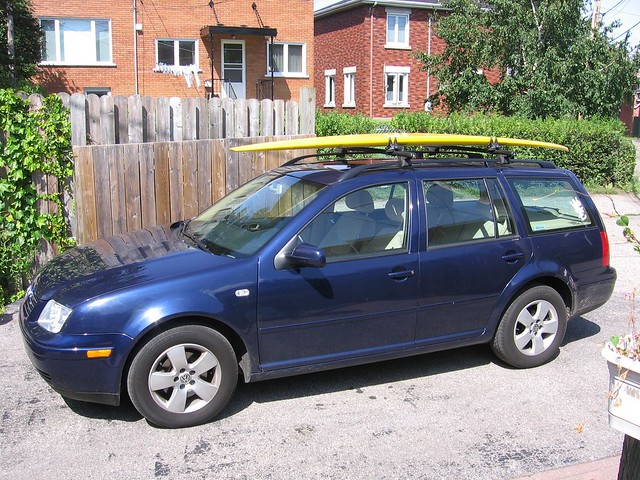car: (17, 158, 617, 428)
